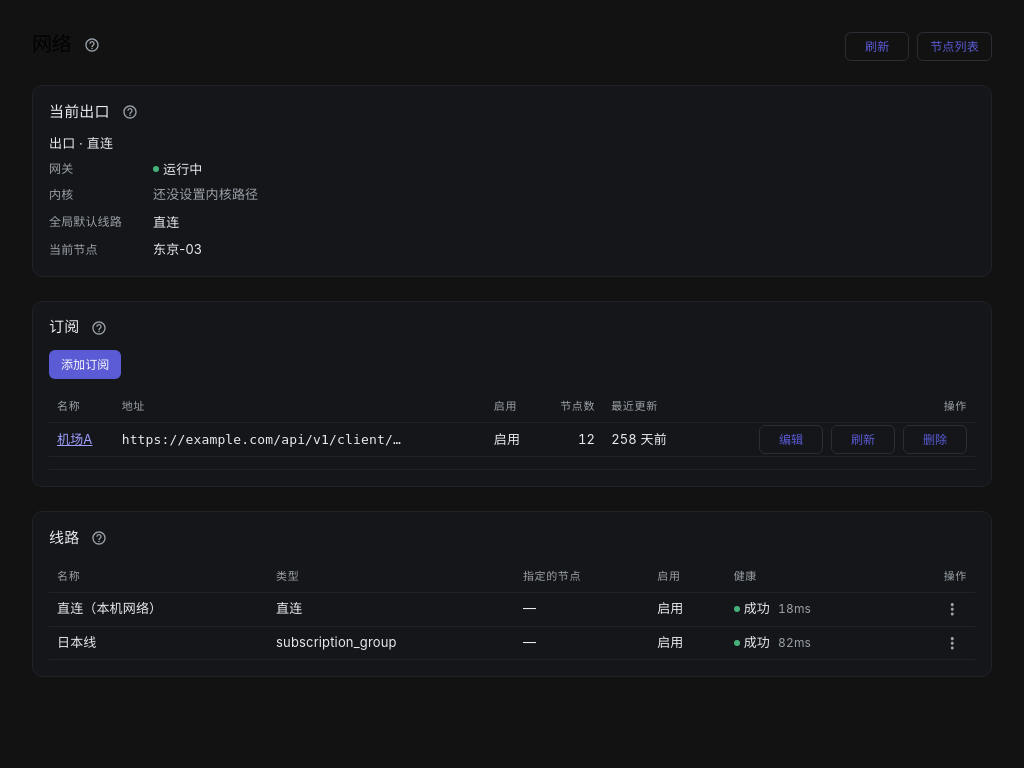
Test: ⑪ /network 订阅写界面：点了真的调命令，并且显示后端返回的对象 › 删除被拒绝：后端原文（含 TA 码）留在确认框里、**不放级联按钮**（订阅没有 force 语义）
Click the button with test id "network-subscriptions-delete" at x=935, y=440, box x1=903 y1=425 x2=967 y2=454
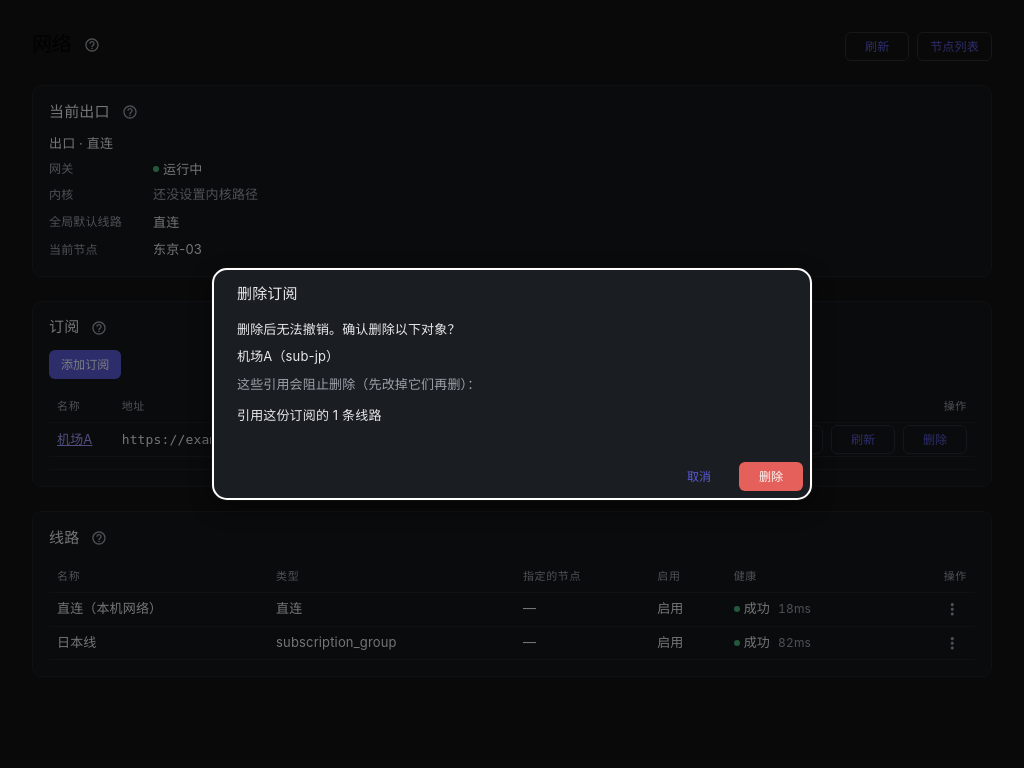
Click the button with test id "network-subscriptions-delete-confirm" at x=771, y=476, box x1=739 y1=462 x2=803 y2=491
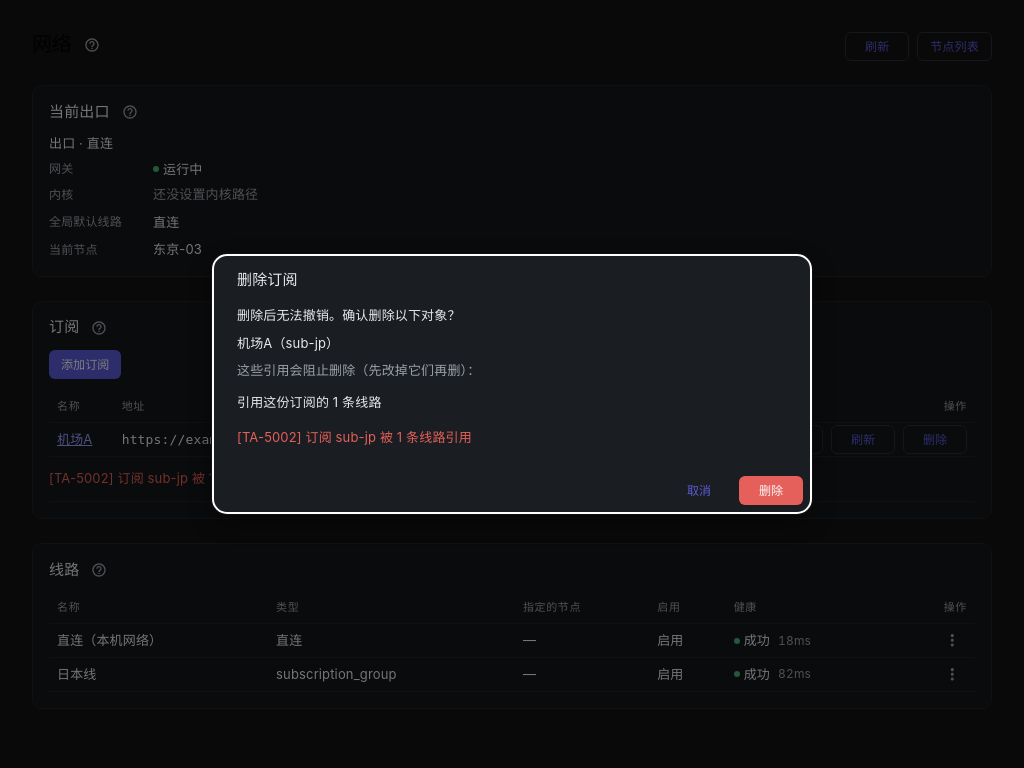
Expected: the element with test id "network-subscriptions-delete-dialog" is shown
Expected: the text with test id "network-subscriptions-delete-error" shows "TA-5002", x1=237 y1=429 x2=472 y2=445
Expected: the text with test id "network-subscriptions-delete-error" shows "被 1 条线路引用", x1=237 y1=429 x2=472 y2=445
